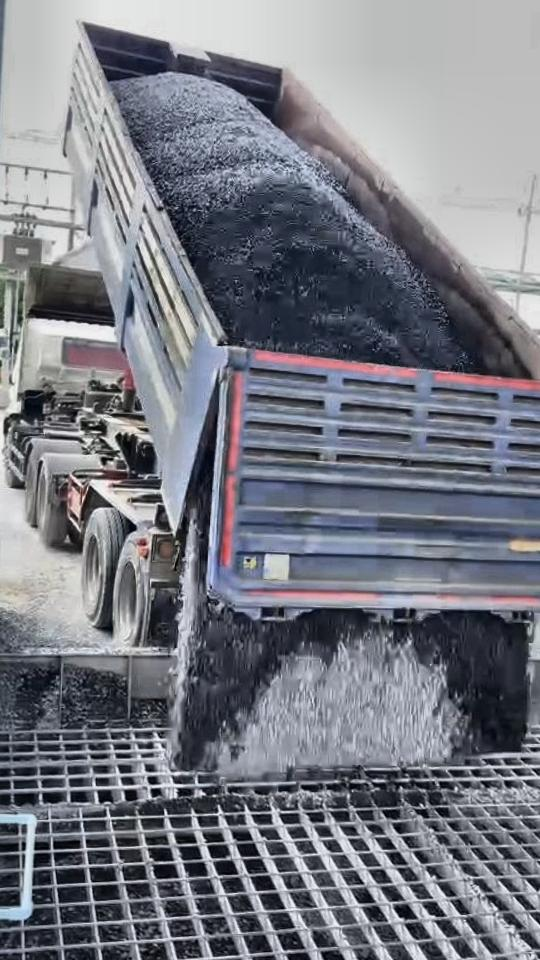gravel: (114, 72, 481, 371), (172, 487, 528, 778), (0, 609, 124, 730)
